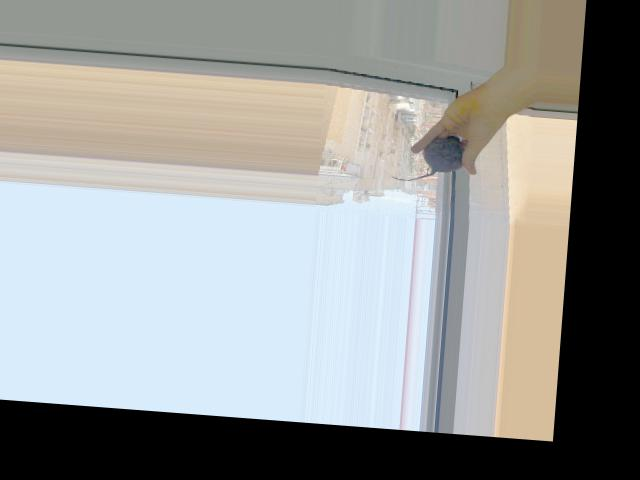beet: (388, 131, 464, 185)
